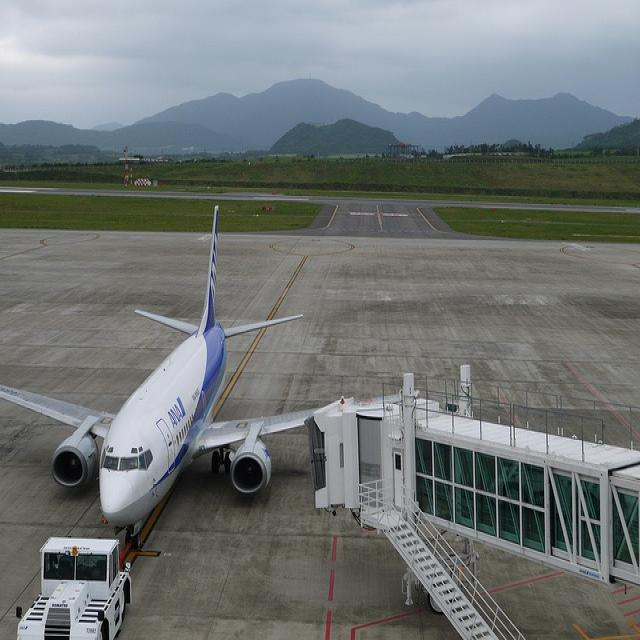truck: (15, 532, 131, 635)
